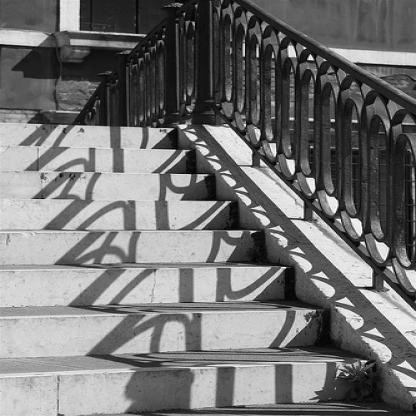stairs: (1, 253, 270, 414)
